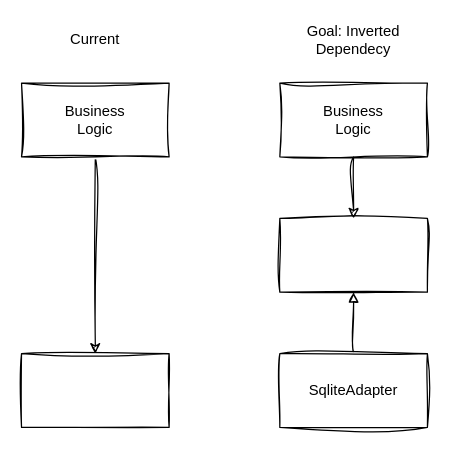
The diagram is 449 pixels wide and 449 high, and some of its shapes have lost their labels. Each missing label, with the centre of its shape:
<<Repository>>: point 353,254
e.g. HashMap/Sqlite: point 94,389
